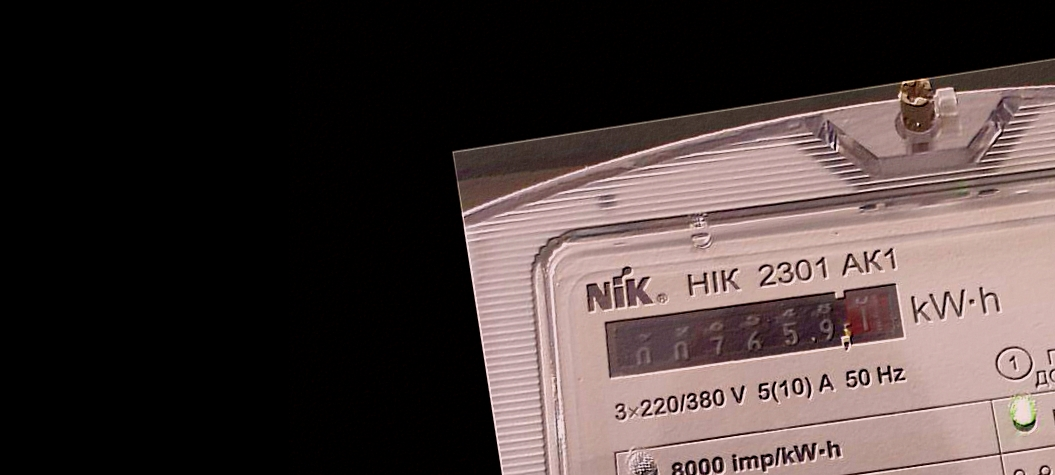0: (633, 342, 655, 370), (671, 337, 693, 364)
1: (857, 302, 875, 335)
5: (778, 318, 804, 348)
6: (743, 327, 766, 353)
7: (707, 332, 730, 360)
9: (816, 314, 838, 344)
screen: (591, 263, 919, 400)
